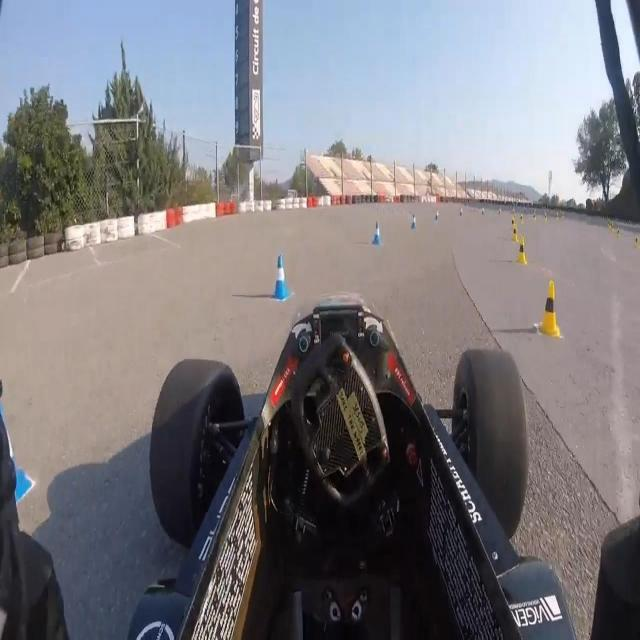blue_cone: (0, 376, 34, 500), (270, 255, 292, 307), (371, 216, 383, 247), (410, 209, 419, 230), (434, 207, 441, 222), (459, 204, 463, 219)
yellow_cone: (538, 281, 563, 338), (518, 236, 528, 266), (512, 223, 518, 244), (511, 216, 515, 234), (519, 213, 524, 227)
